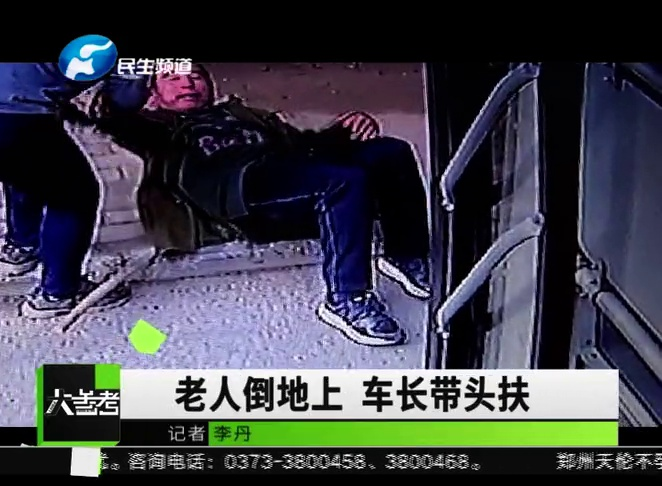fall: (104, 61, 437, 345)
nofall: (1, 60, 142, 317)
